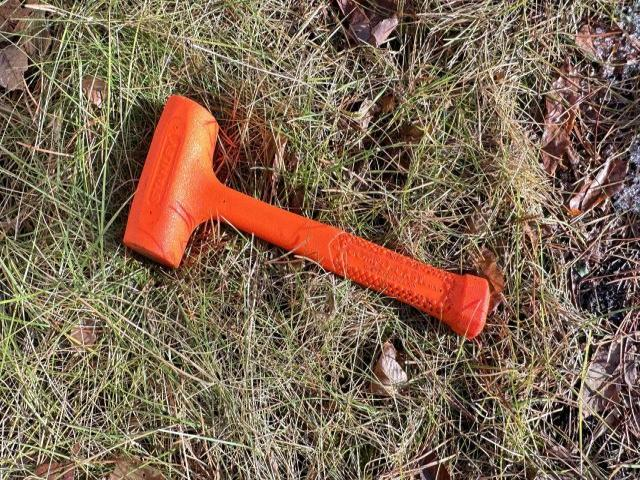hammer: (122, 93, 490, 338)
